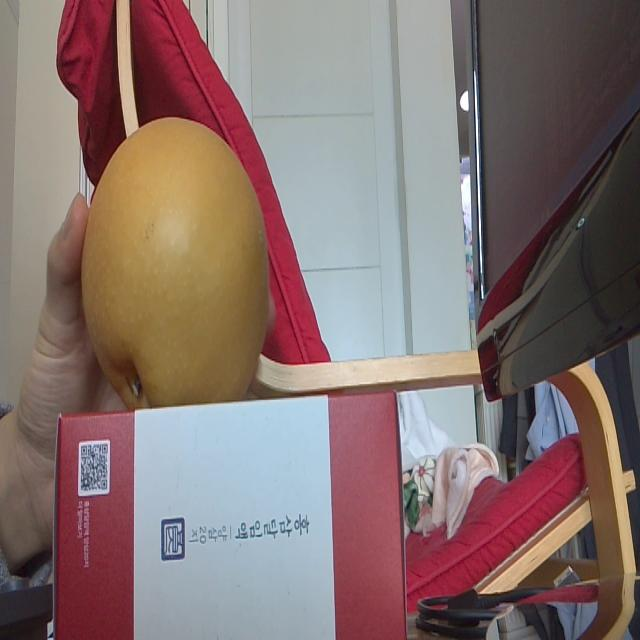pear: (82, 114, 269, 406)
